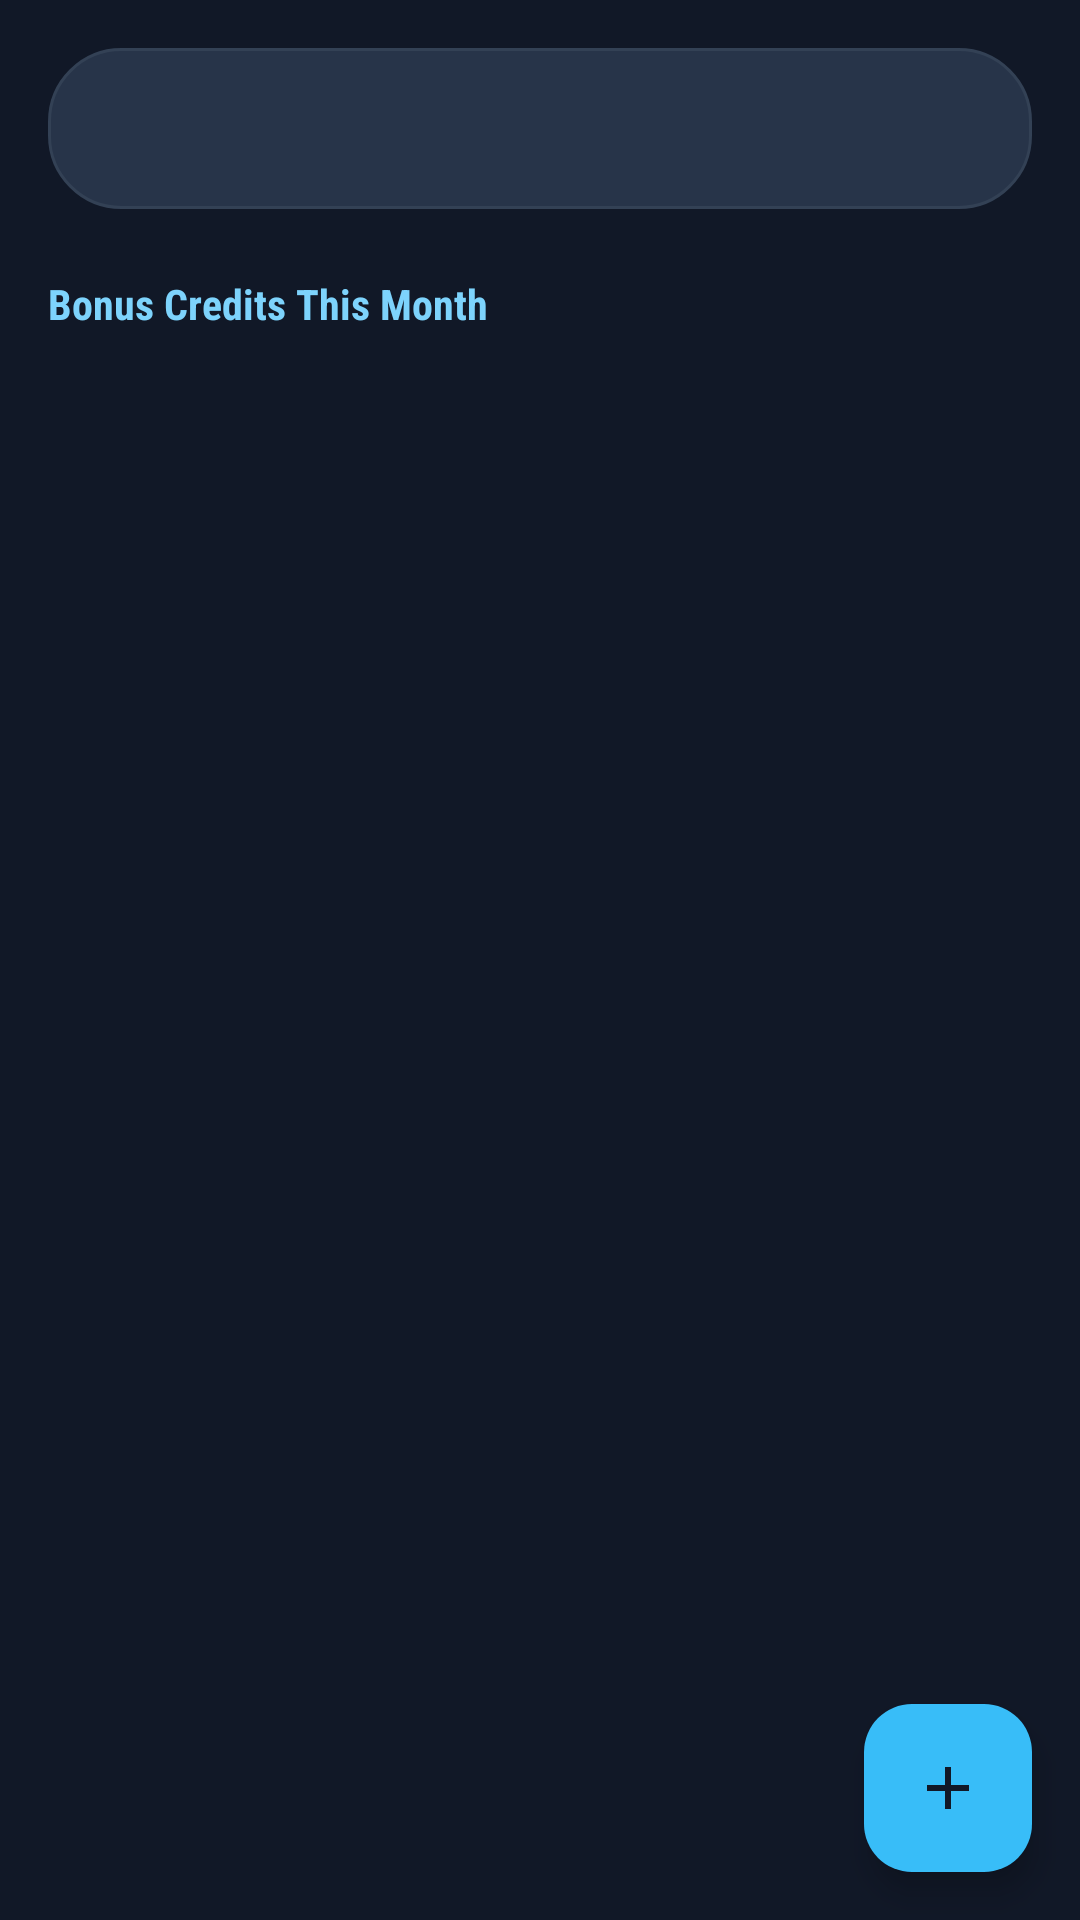

Screen size 1080×1920. Icon name, then its center in pixels as (x=x, y=y):
Add extra income: (x=948, y=1788)
